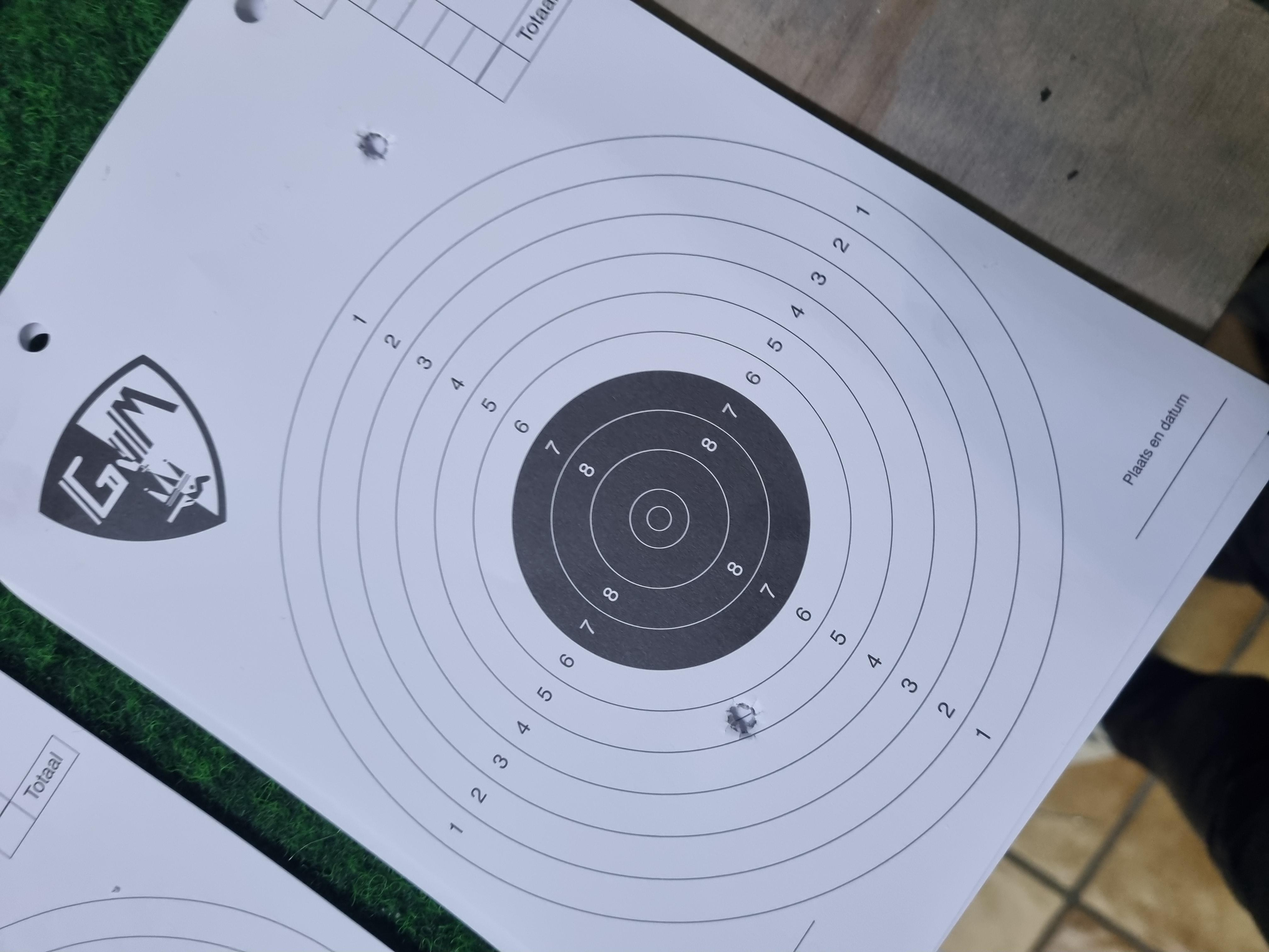hole: (285, 544, 333, 569), (1055, 267, 1095, 292)
